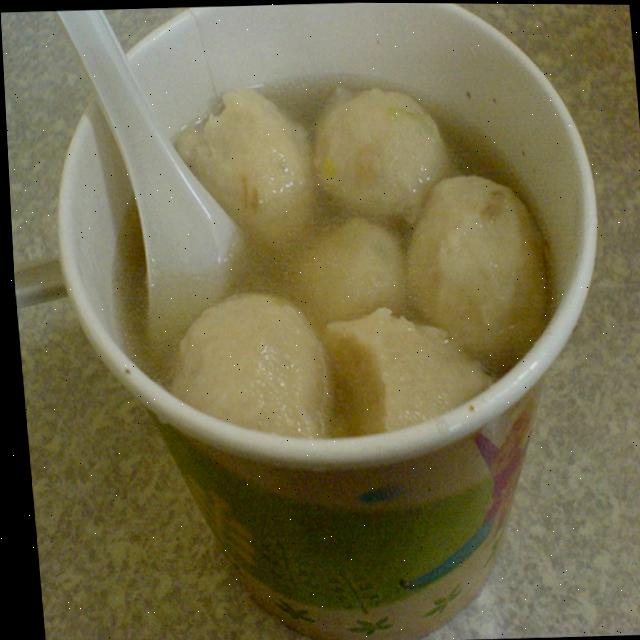熟制海鲜: (70, 10, 575, 499)
